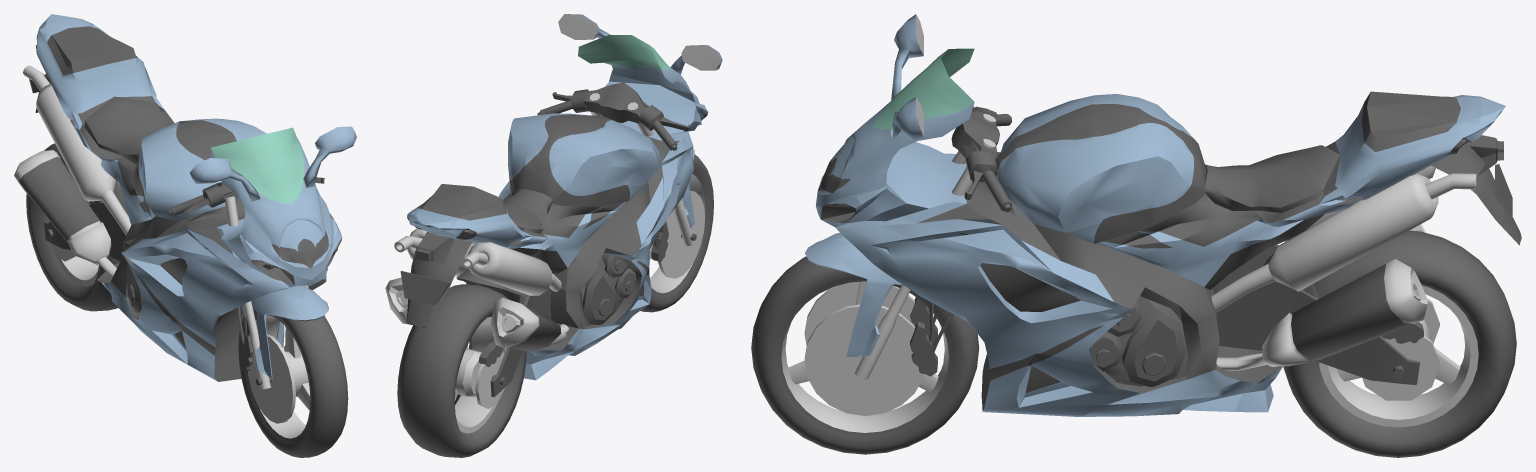
The model's file is bike5.fbx.
The picture shows the model from 3 angles, left to right: view 1: azimuth 30°, elevation 25°; view 2: azimuth 150°, elevation 25°; view 3: azimuth 270°, elevation 25°; orthographic projection. The views are drawn at different scales.
Parts seen in each view (by area): view 1: Bike5, FrontWheel, BackWheel, Wing, BackAngularAbsorber, Shape; view 2: Bike5, BackWheel, FrontWheel, Shape, BackAngularAbsorber, Wing; view 3: Bike5, FrontWheel, BackWheel, BackAngularAbsorber, Wing, Shape.
Boxes of the visible parts, bbox=[...] form: Bike5: bbox=[14, 14, 356, 381]; FrontWheel: bbox=[238, 310, 348, 457]; BackWheel: bbox=[26, 143, 119, 311]; Wing: bbox=[237, 285, 328, 389]; BackAngularAbsorber: bbox=[44, 180, 128, 260]; Shape: bbox=[169, 177, 324, 226]; Bike5: bbox=[385, 14, 722, 380]; BackWheel: bbox=[397, 284, 526, 457]; FrontWheel: bbox=[640, 154, 713, 312]; Shape: bbox=[537, 82, 690, 150]; BackAngularAbsorber: bbox=[456, 269, 551, 396]; Wing: bbox=[651, 149, 696, 261]; Bike5: bbox=[816, 14, 1521, 416]; FrontWheel: bbox=[751, 256, 979, 454]; BackWheel: bbox=[1283, 230, 1516, 457]; BackAngularAbsorber: bbox=[1216, 236, 1423, 384]; Wing: bbox=[805, 233, 953, 379]; Shape: bbox=[951, 106, 1011, 212].
Size of what is drawn, in the model's own units: 0.6742 by 1.15 by 2.05.
